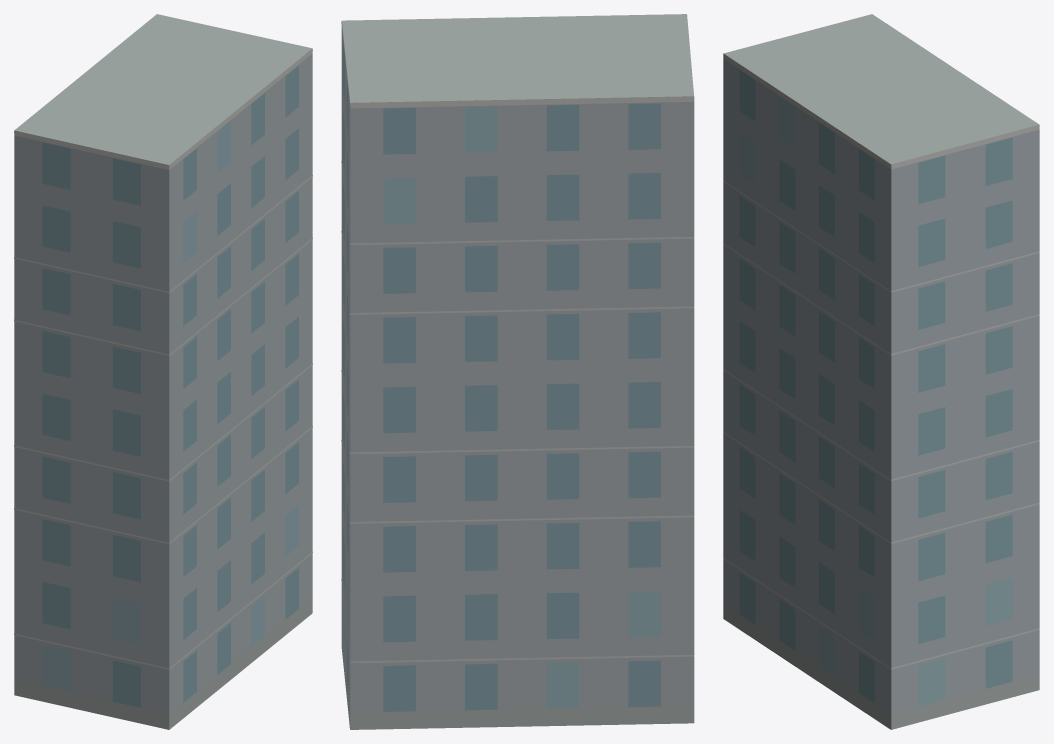
Rendered from survey-upis-32994863.glb.
The picture shows the model from 3 angles, left to right: view 1: azimuth 30°, elevation 25°; view 2: azimuth 150°, elevation 25°; view 3: azimuth 270°, elevation 25°; orthographic projection. The views are drawn at different scales.
Visible parts, largest first — view 1: survey-upis-32994863.tmp; view 2: survey-upis-32994863.tmp; view 3: survey-upis-32994863.tmp.
Part boxes in pixels (x1,y1,x2,y2): survey-upis-32994863.tmp: (14,14,312,729); survey-upis-32994863.tmp: (341,14,694,729); survey-upis-32994863.tmp: (723,14,1039,729).
Size of the model in its own units: 15.68 by 27.45 by 13.93.
